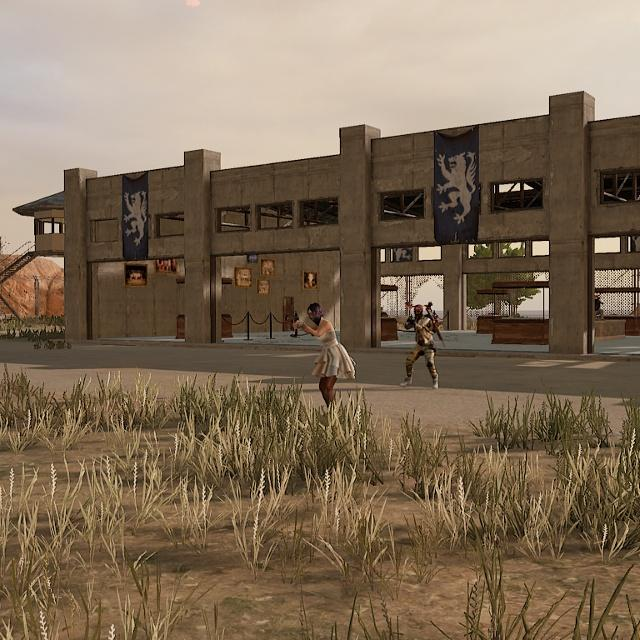head: (305, 300, 327, 325), (410, 301, 426, 321)
people: (289, 298, 359, 416), (400, 299, 446, 394)
